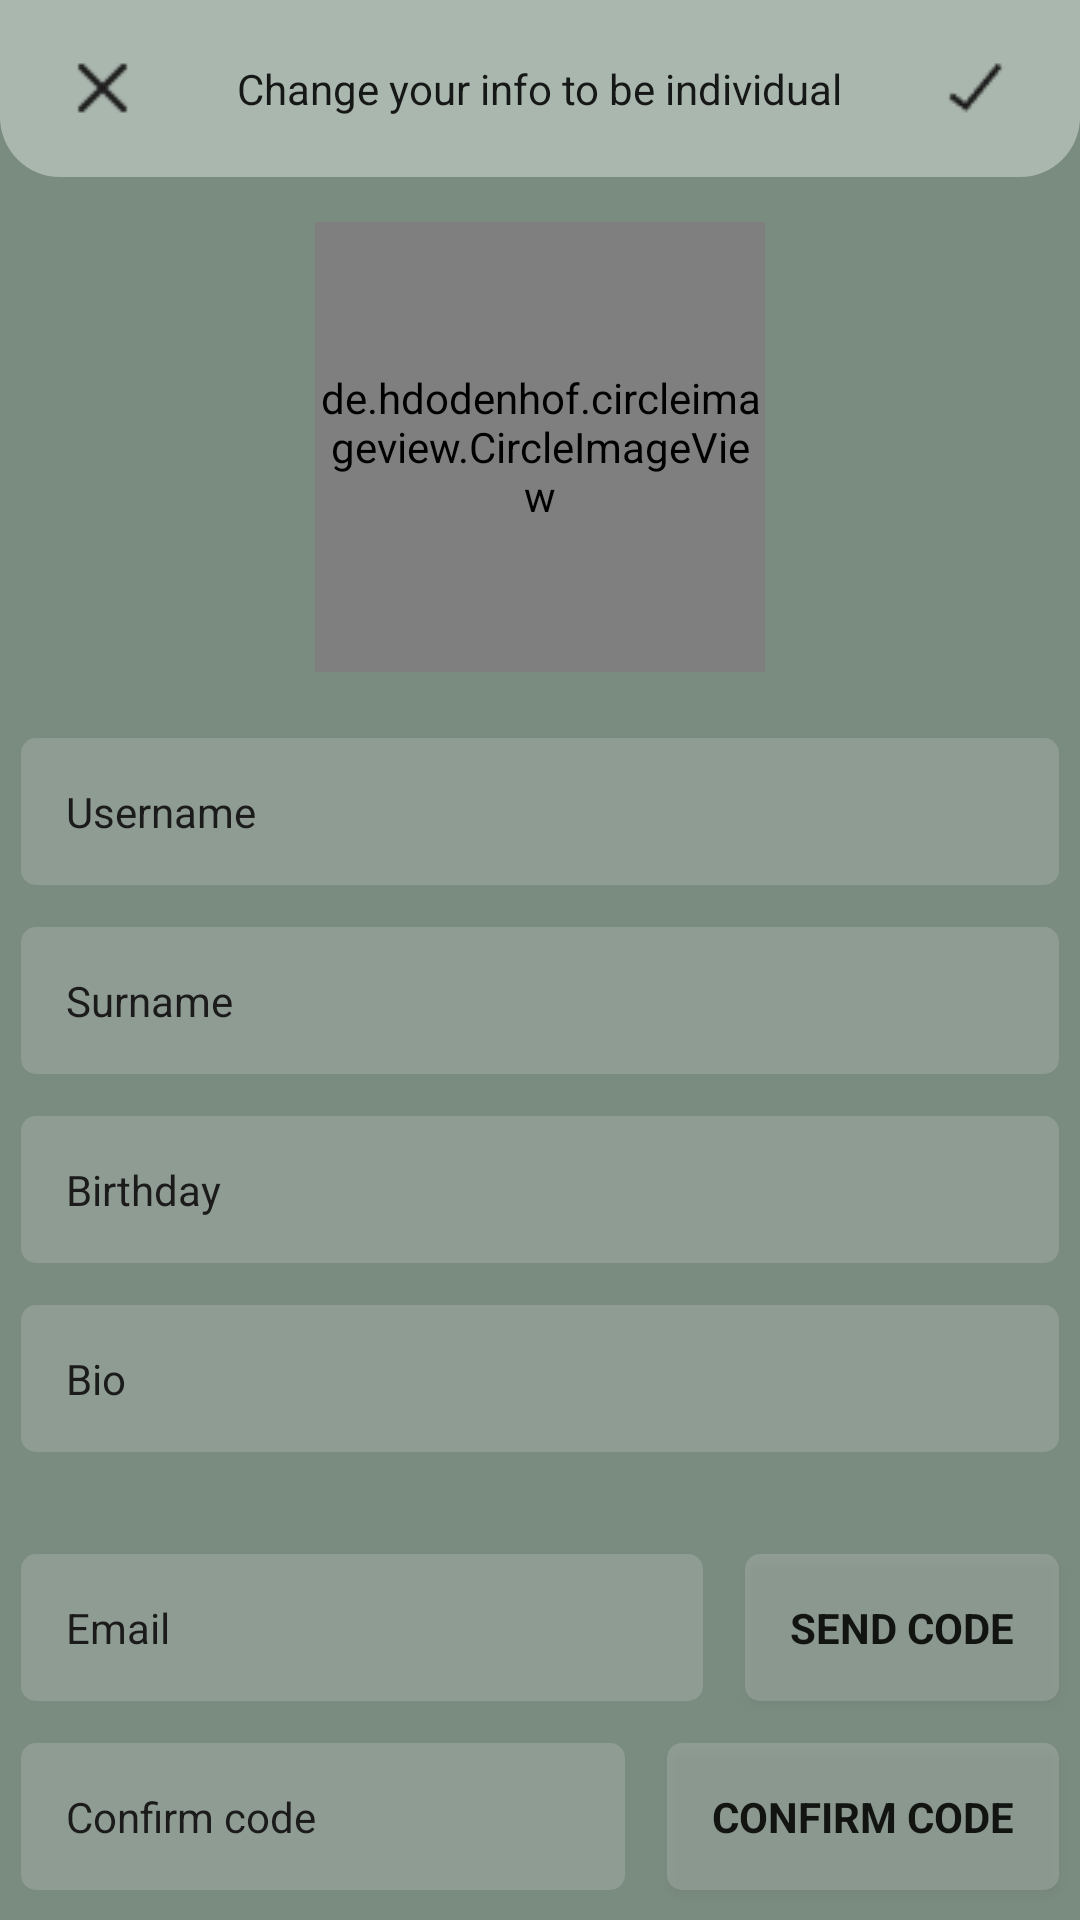

Where to tap for icons on this 1080*1920 app screen, as (x,y):
close: (102,88)
done: (975,87)
